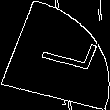L_W: (19, 32, 91, 78)
